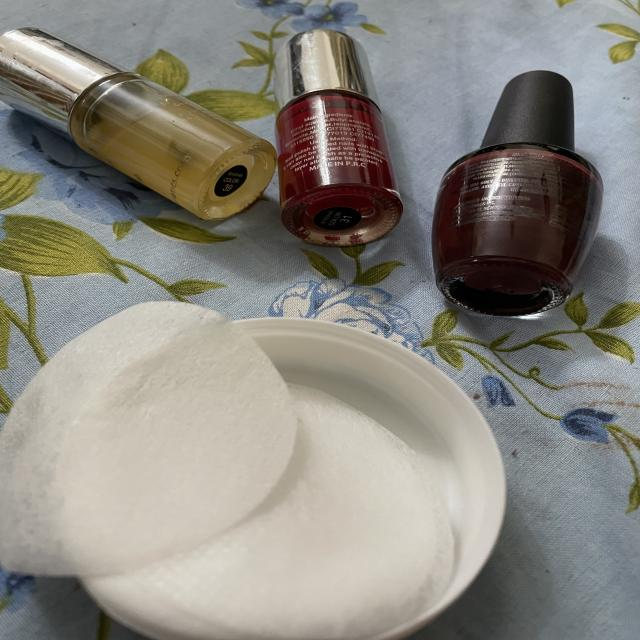nail polish: (1, 12, 278, 232), (422, 55, 620, 328), (257, 24, 401, 252)
nail polish remover: (2, 281, 524, 640)
